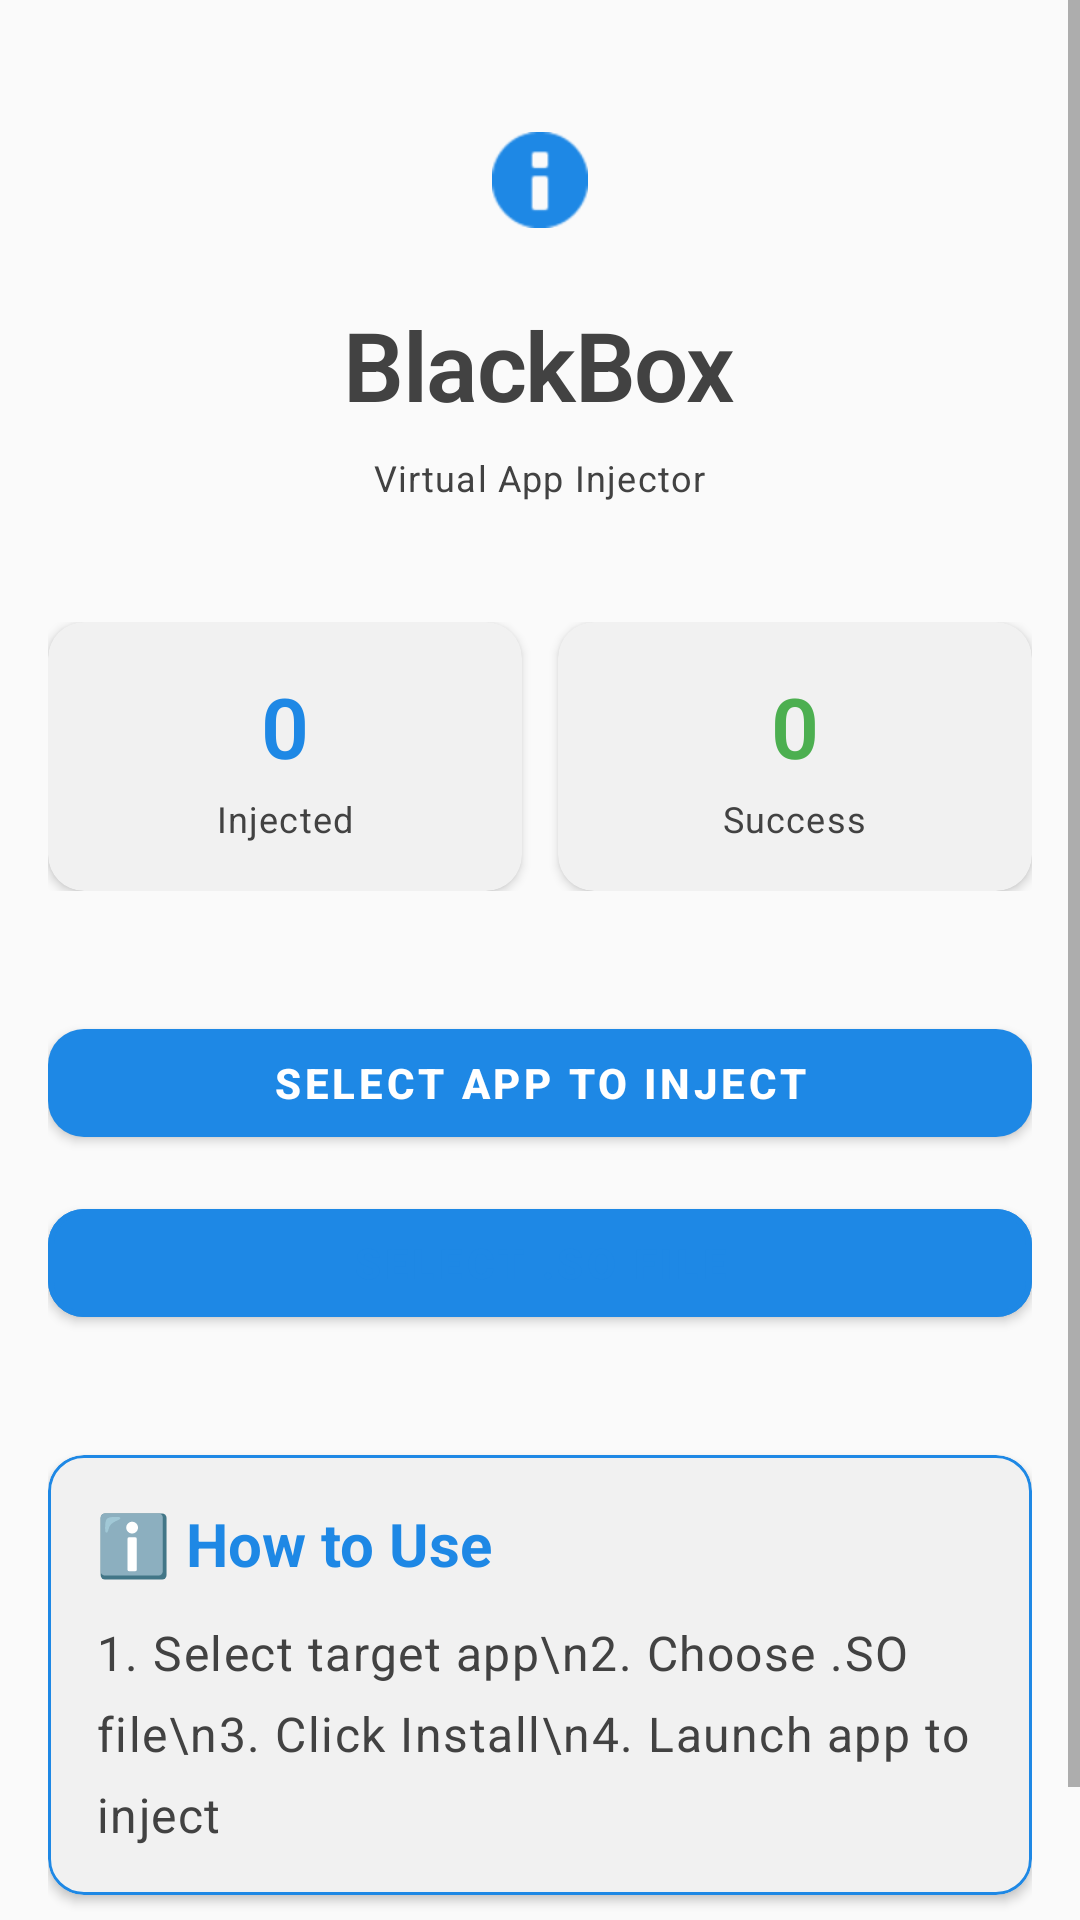

Named icons in this screenshot (1080×1920) and their bounding boxes, (x1, y1, x2, y2):
info: (492, 132, 588, 228)
